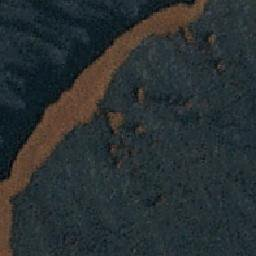debris: (129, 1, 206, 34), (76, 60, 106, 116), (2, 166, 19, 249), (47, 92, 72, 146), (19, 127, 44, 173), (113, 114, 141, 151), (109, 29, 129, 72)
